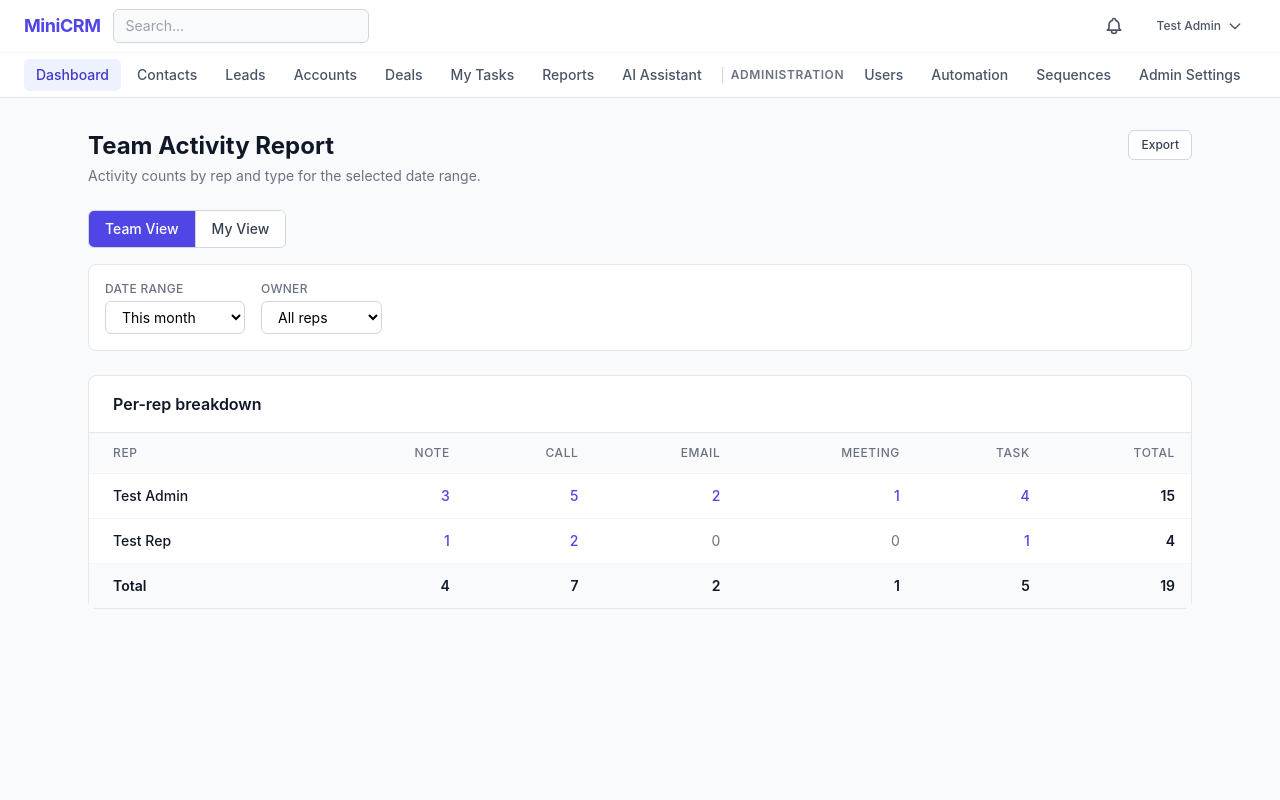
ActivityVolumeReportPage › CSV export › renders the export CSV button when data is present
Click the button with test id "activity-volume-export-menu-button". click: click(1160, 145)
box: [1128,130,1192,160]
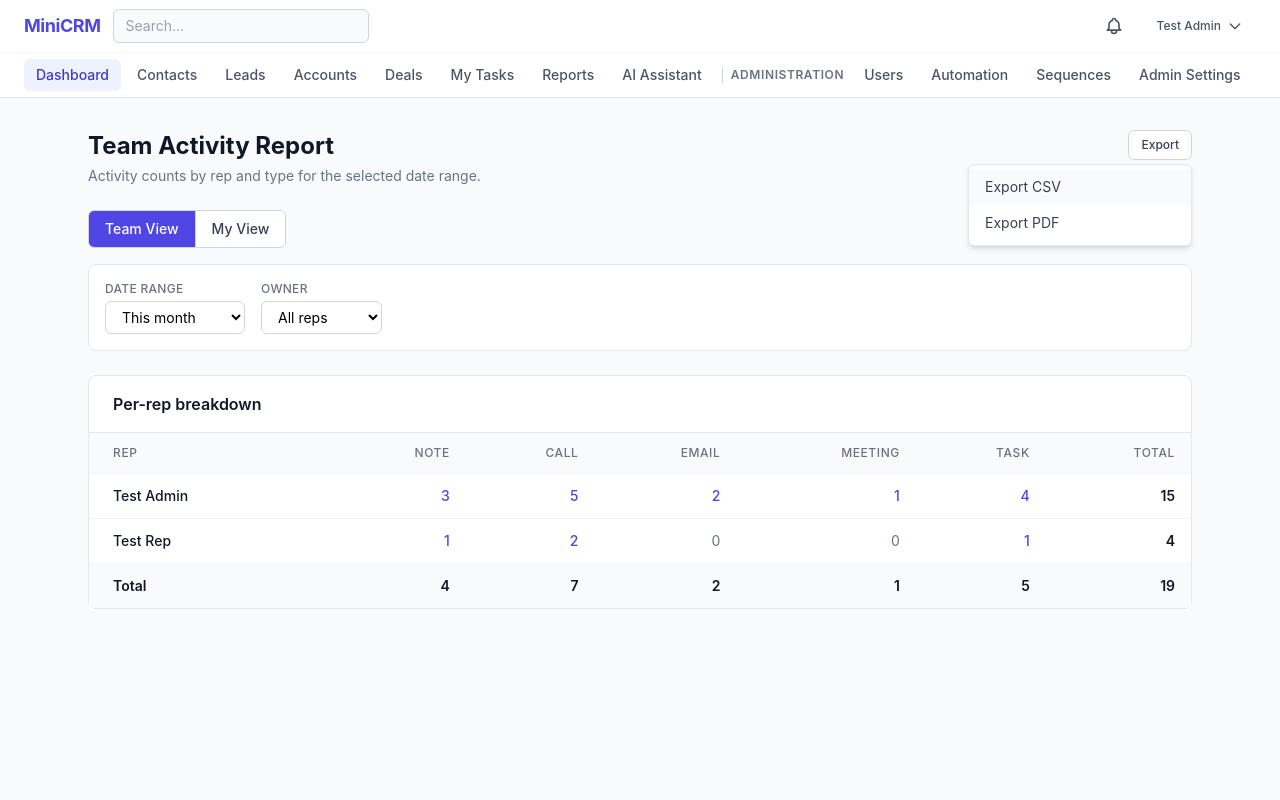
Check: the menu item with test id "activity-volume-export-csv-button" is shown, box [969,169,1191,205]
